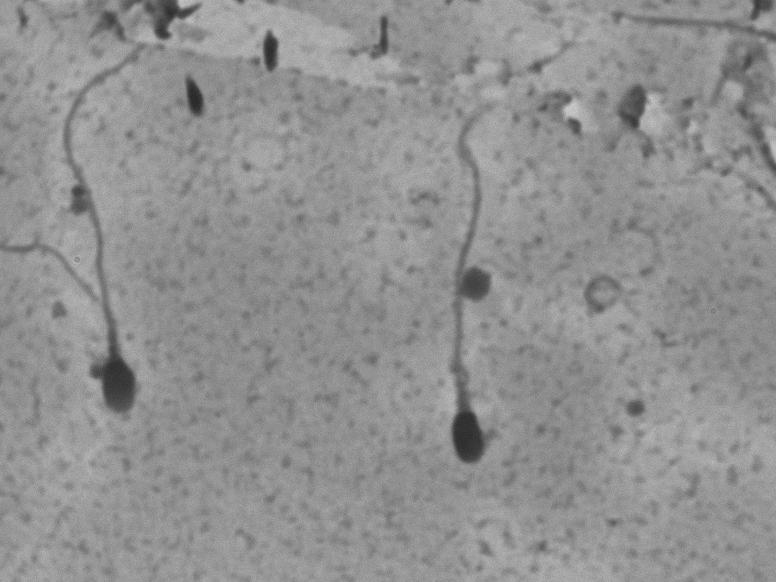Abnormal: (406, 83, 543, 485)
Normal: (55, 44, 147, 419)
